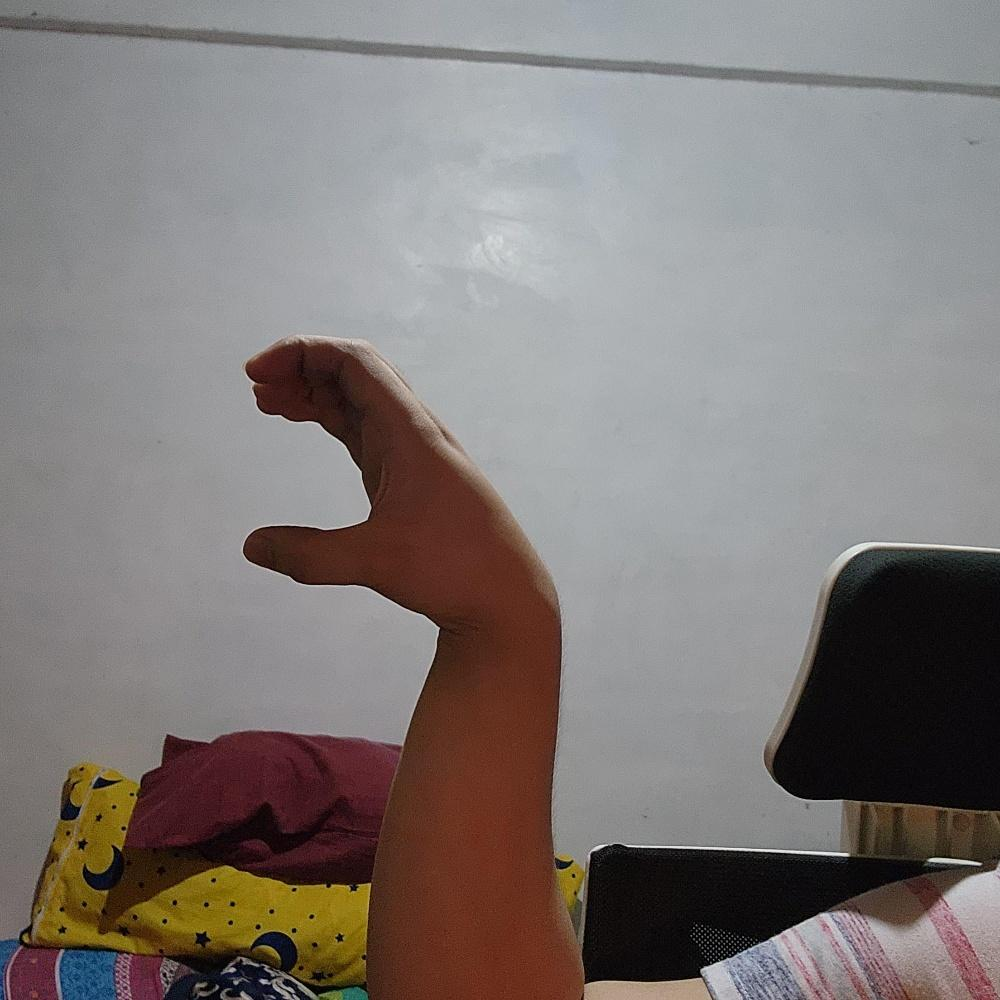c: (244, 334, 564, 627)
